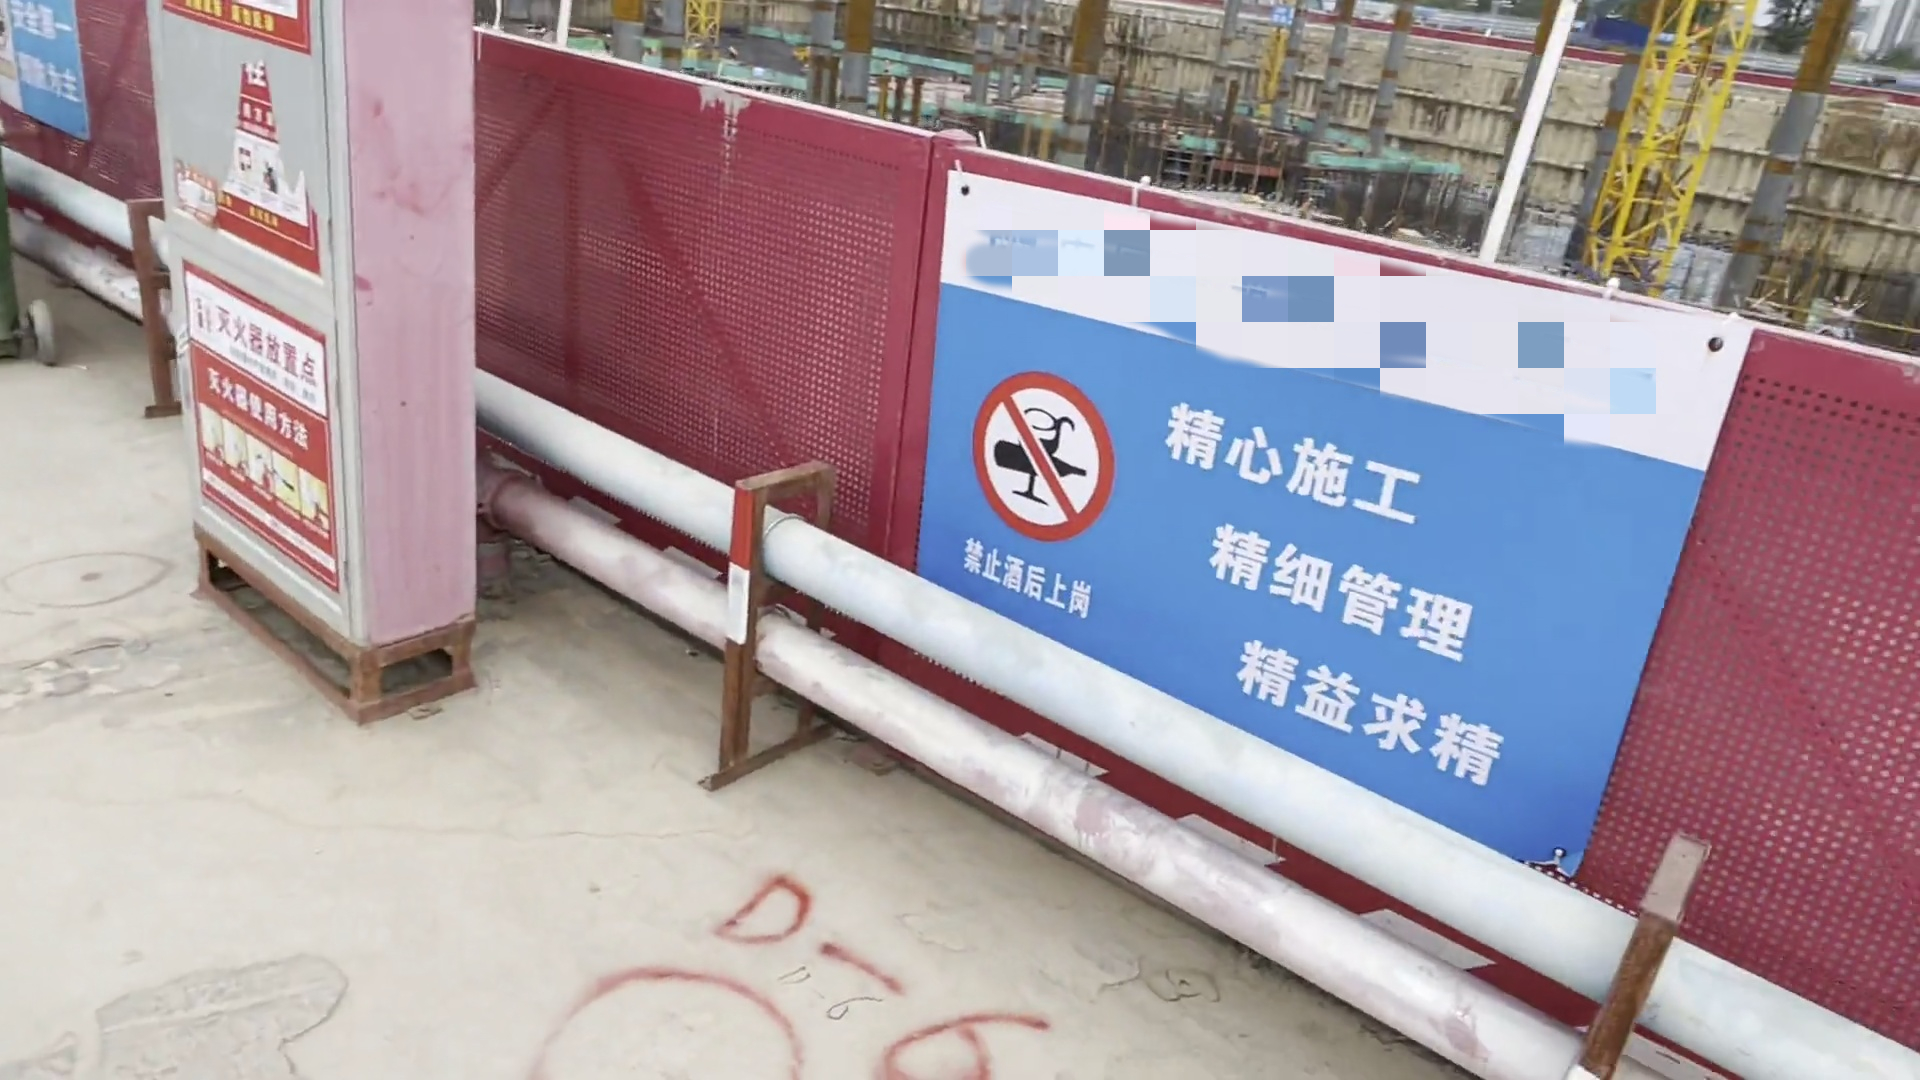slogan: (959, 297, 1578, 774)
